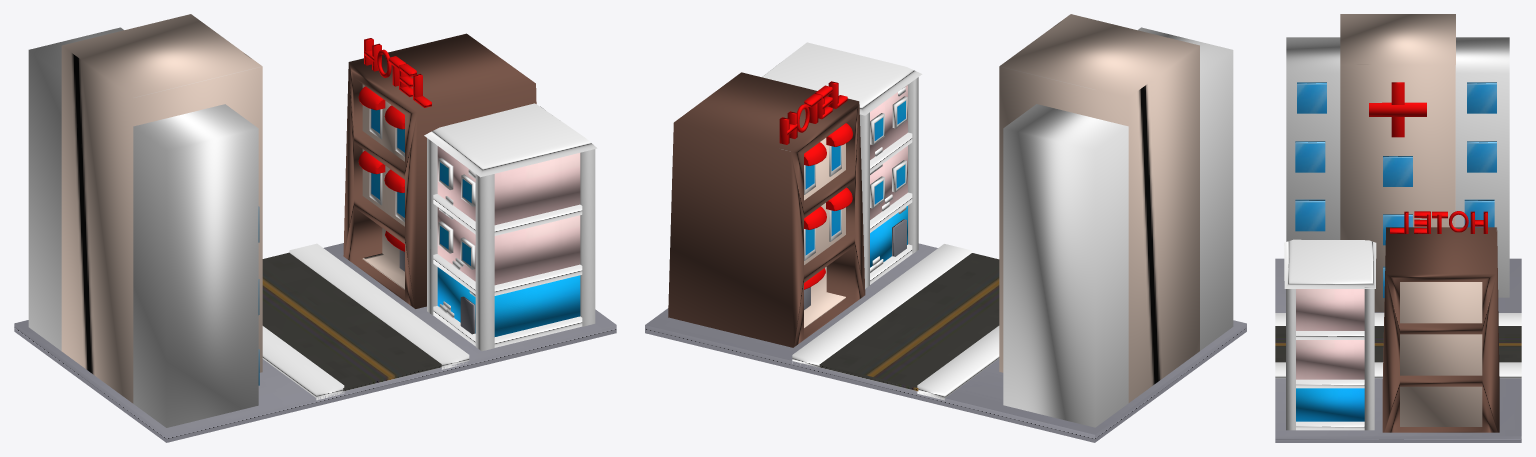
3 views of the same model, side by side, from view 1: azimuth 30°, elevation 25°; view 2: azimuth 150°, elevation 25°; view 3: azimuth 270°, elevation 25° (orthographic). The views are drawn at different scales.
Parts seen in each view (by area): view 1: Buil3, Frame, Bui3_2, Crossroad, Road, Main3, Bui1_(main1), Floor, Main2, Buil2, Sign, Quad_Sphere (+5 smaller); view 2: Frame, Buil3, Bui3_2, Crossroad, Road, Floor, Buil2, Quad_Sphere, Sign, Main3, Window4, Main2 (+5 smaller); view 3: Bui3_2, Frame, Buil3, Buil2, Crossroad, Hos_win_1, Main3, Bui1_(main1), Sign, Main2, Road, Floor.
Boxes of the visible parts, x1,y1,x2,y2 form: Buil3: (28,27,258,427); Frame: (343,33,597,351); Bui3_2: (61,14,262,403); Crossroad: (14,243,616,442); Road: (262,252,441,391); Main3: (437,146,580,225); Bui1_(main1): (437,207,580,285); Floor: (289,243,469,369); Main2: (437,267,580,336); Buil2: (362,84,404,289); Sign: (364,38,431,107); Quad_Sphere: (358,86,404,251); Frame: (668,42,922,347); Buil3: (1003,27,1233,427); Bui3_2: (999,14,1199,402); Crossroad: (645,243,1246,442); Road: (819,253,999,391); Floor: (792,244,972,367); Buil2: (804,138,845,328); Quad_Sphere: (804,123,852,289); Sign: (779,81,847,144); Main3: (870,85,907,159); Window4: (870,96,907,208); Main2: (870,206,907,267); Bui3_2: (1340,14,1455,312); Frame: (1284,227,1499,432); Buil3: (1286,37,1509,297); Buil2: (1400,282,1482,426); Crossroad: (1275,258,1521,442); Hos_win_1: (1295,82,1496,297); Main3: (1296,289,1364,330); Bui1_(main1): (1296,340,1364,379); Sign: (1369,82,1487,233); Main2: (1296,388,1364,421); Road: (1275,326,1521,362); Floor: (1275,362,1521,378).
Bounding box in the file's own units: 16.83 × 11.22 × 9.85.
Materials: 23 (16 with a texture image).
